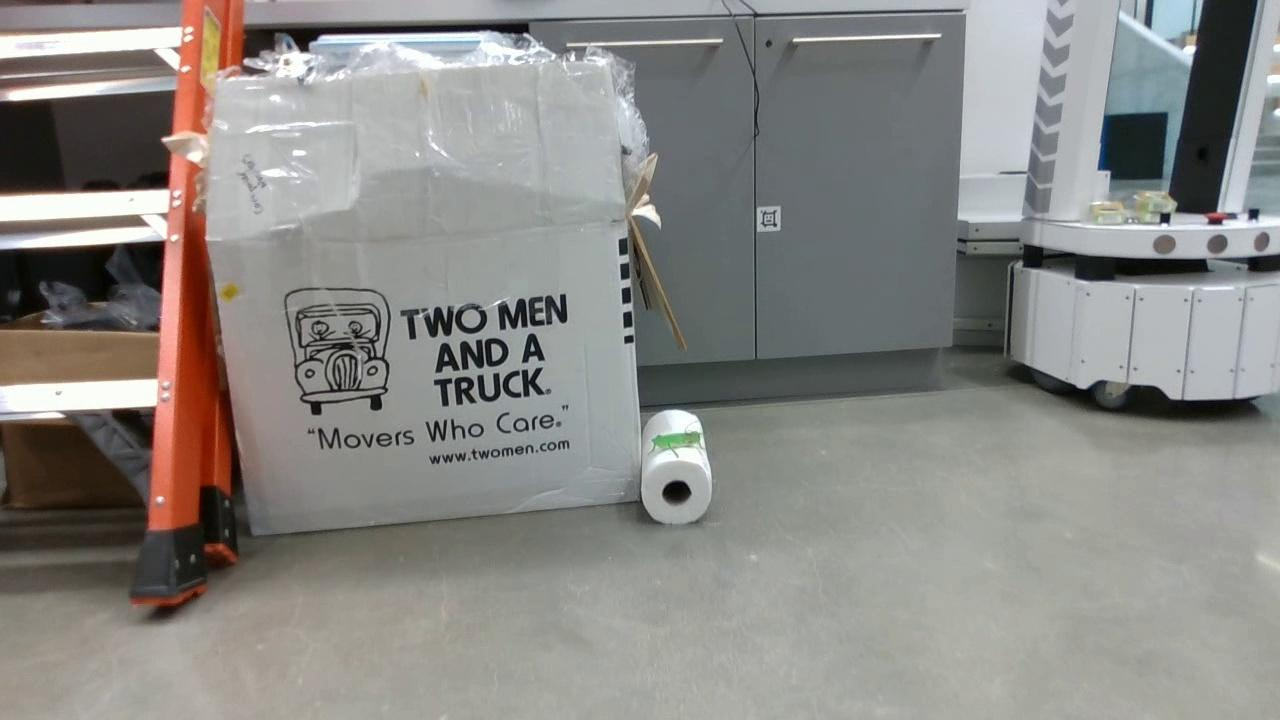grasshopper: (652, 431, 707, 459)
